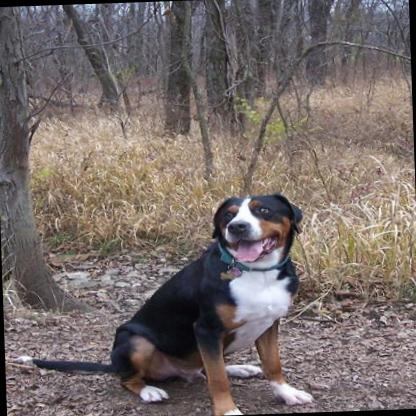Greater_Swiss_Mountain_dog: (23, 191, 313, 416)
